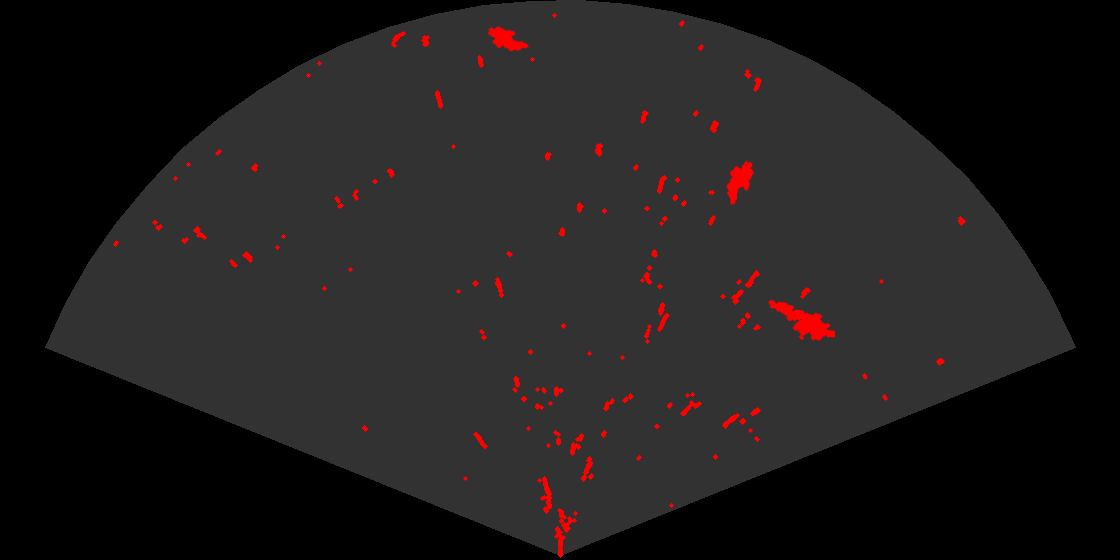AUV: (725, 159, 755, 207), (486, 25, 531, 53)
frogman: (767, 298, 835, 342)
